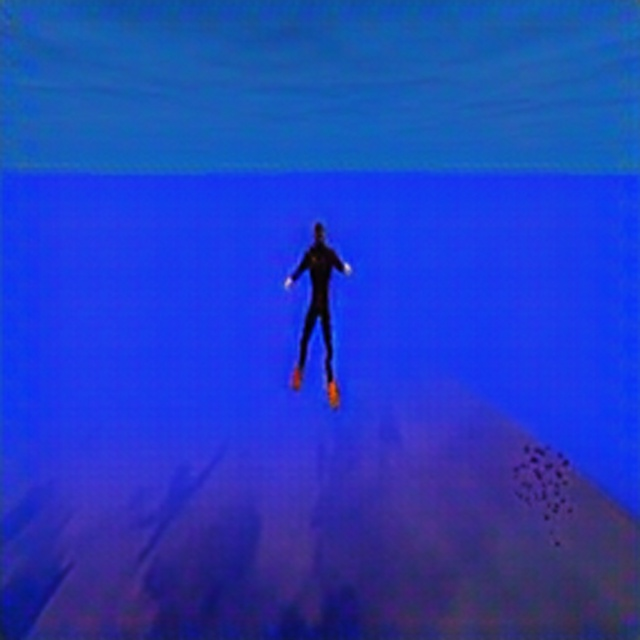diver: (282, 218, 354, 409)
